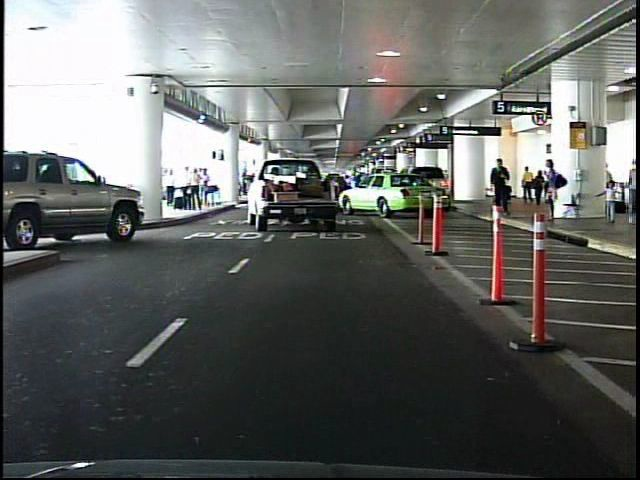person: (540, 155, 566, 225), (490, 156, 511, 219), (596, 176, 620, 226), (533, 170, 545, 207), (522, 166, 533, 204)
